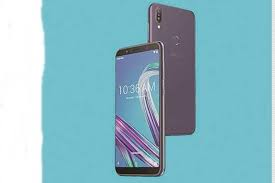asus: (111, 39, 166, 178), (147, 1, 199, 138)
